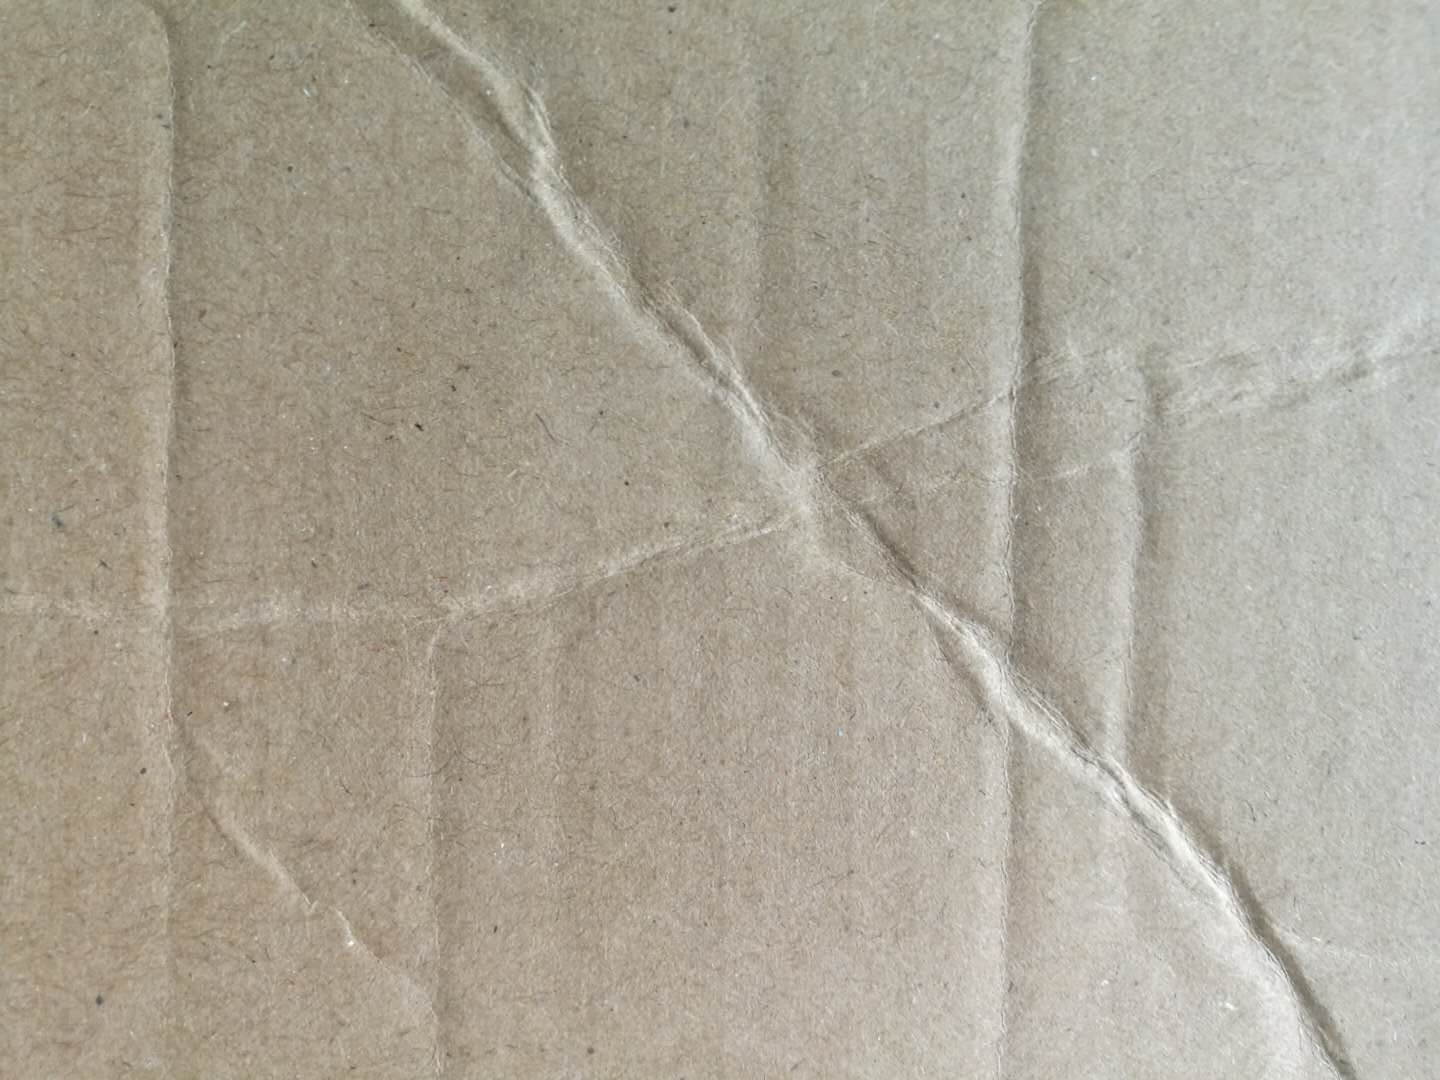defect: (327, 1, 1437, 1080), (1, 271, 1440, 670), (935, 3, 1188, 1080), (101, 5, 283, 1079), (366, 577, 532, 1080)
